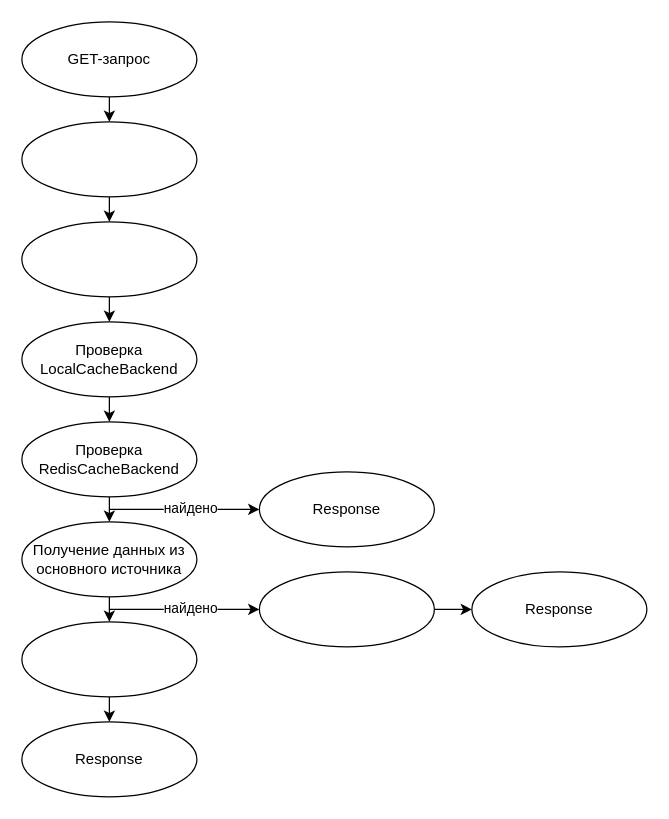
This 669x819 diagram has some shape labels left out. The shapes that lost their labels are listed below. From the top down, each one's centre as x and y in pixels, then its label:
At (109,159): "CacheResponseMixin".
At (109,259): "MultiLevelCache .get_or_set()".
At (346,609): "сохранение в LocalCacheBackend".
At (109,659): "Сохранение в RedisCacheBackend и LocalCacheBackend".
